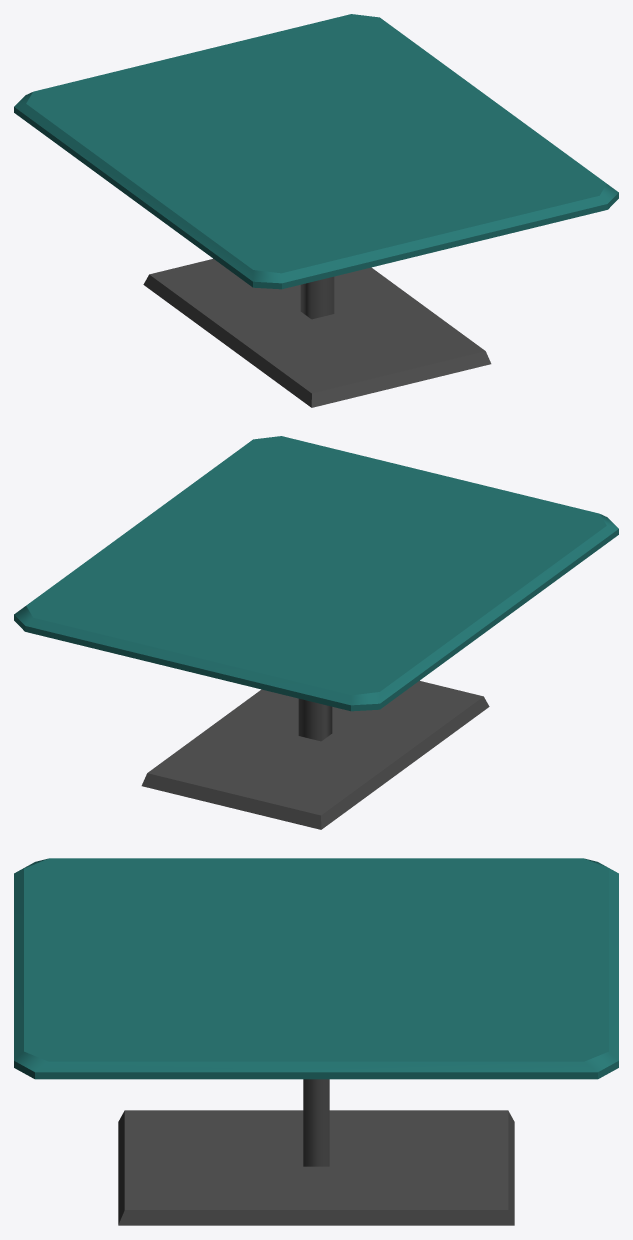
The model's file is SM_Table_3.fbx.
3 views of the same model, one above another, from view 1: azimuth 30°, elevation 25°; view 2: azimuth 150°, elevation 25°; view 3: azimuth 270°, elevation 25° (orthographic). The views are drawn at different scales.
Parts seen in each view (by area): view 1: SM_Table_3; view 2: SM_Table_3; view 3: SM_Table_3.
Part boxes in pixels (x1=…): SM_Table_3: x1=14, y1=14, x2=618, y2=407; SM_Table_3: x1=14, y1=436, x2=618, y2=829; SM_Table_3: x1=14, y1=858, x2=618, y2=1225.
Bounding box in the file's own units: 138 × 65.27 × 168.
